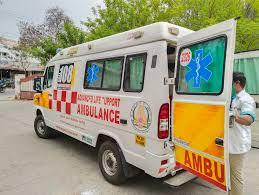ER: (32, 22, 259, 189)
